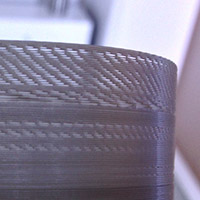3dpunderextrusion: (3, 46, 127, 90), (5, 122, 158, 157), (131, 57, 175, 100)
